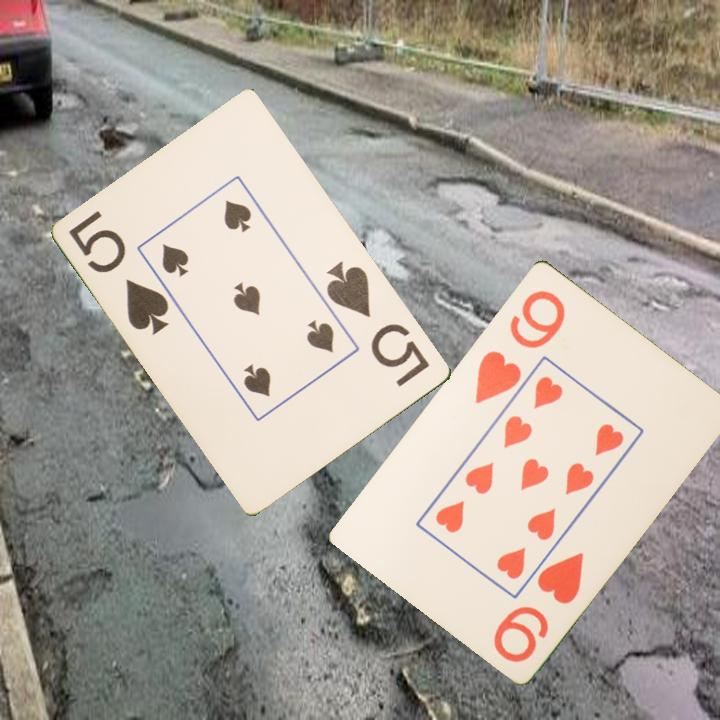5s: (323, 257, 434, 390), (65, 207, 173, 338)
9h: (471, 285, 569, 406), (489, 548, 587, 665)
